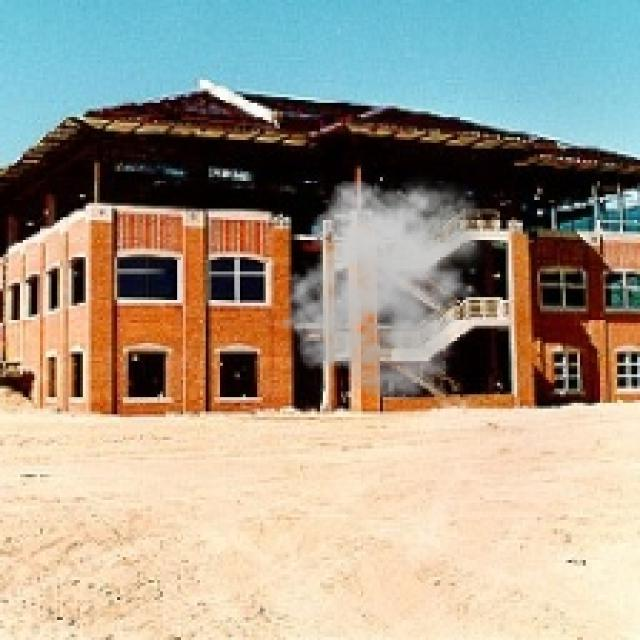Smoke: (279, 171, 492, 400)
